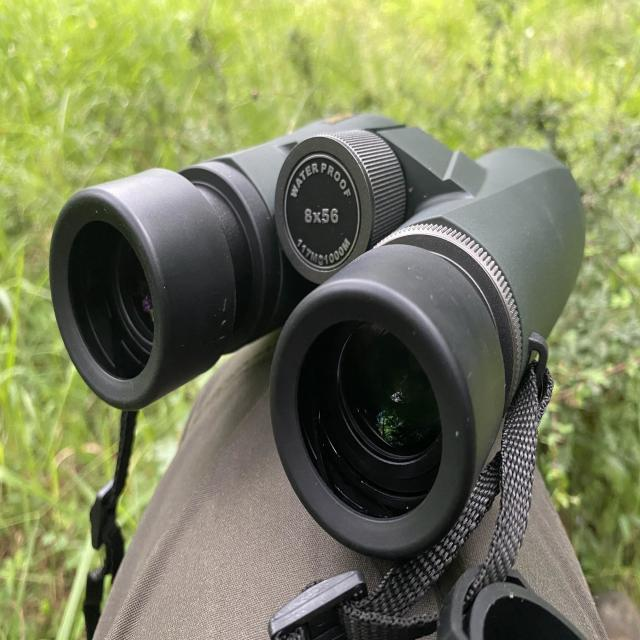Binocular: (39, 90, 594, 564)
